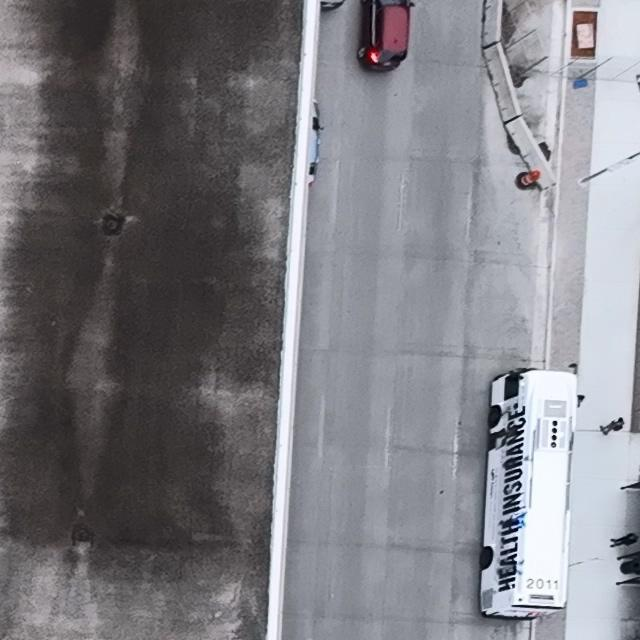car: (477, 370, 578, 621), (355, 0, 415, 71)
